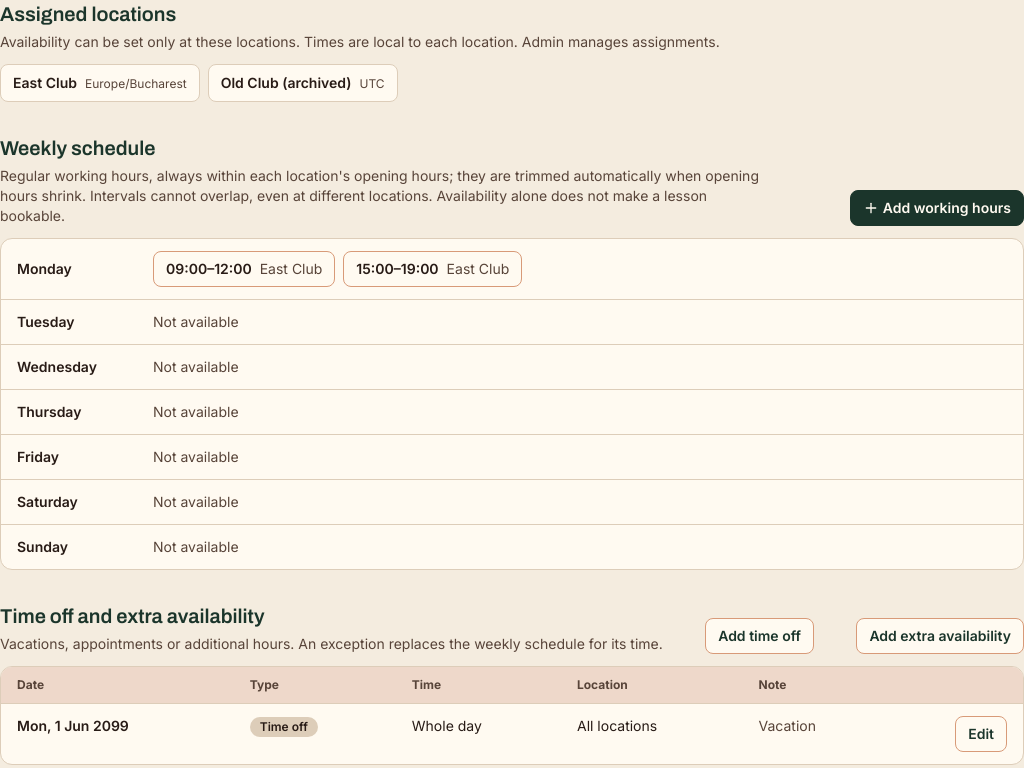
submits a holiday as one inclusive period, forces whole days and keeps values on booking conflict
Click the button "Add time off": {"x": 760, "y": 636} top-left (705, 618), bottom-right (814, 654)
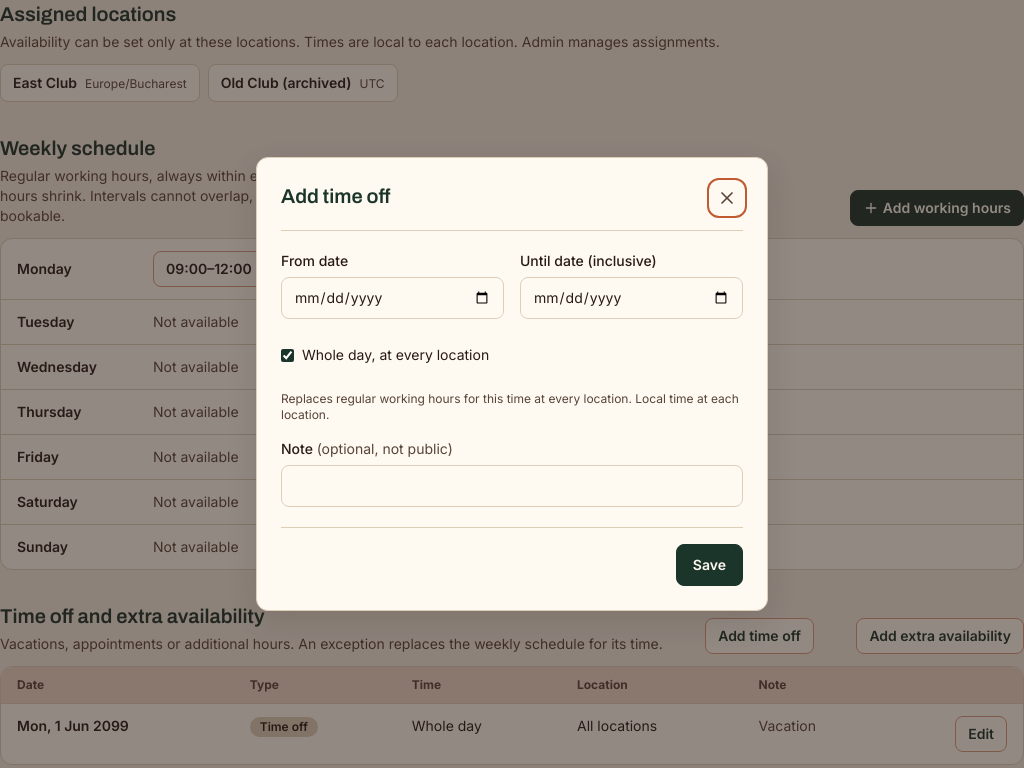
In the date field labelled "From date": {"x": 392, "y": 298} top-left (281, 277), bottom-right (504, 319), type "2099-12-21"
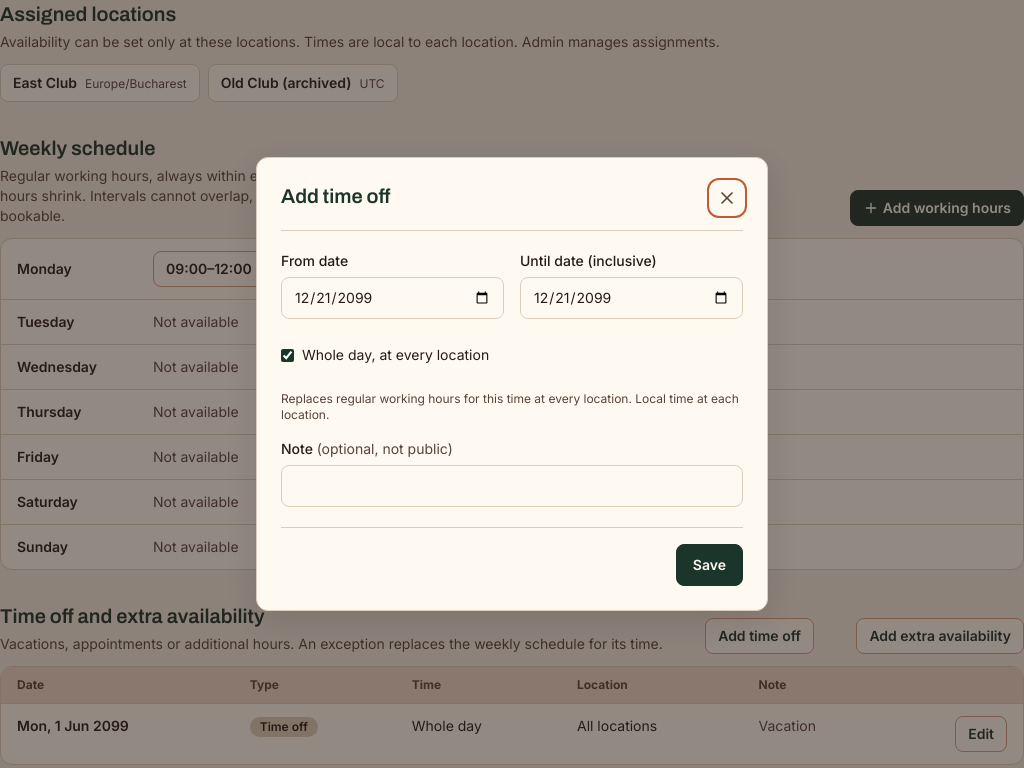
In the date field labelled "Until date (inclusive)": {"x": 632, "y": 298} top-left (520, 277), bottom-right (743, 319), type "2100-01-10"
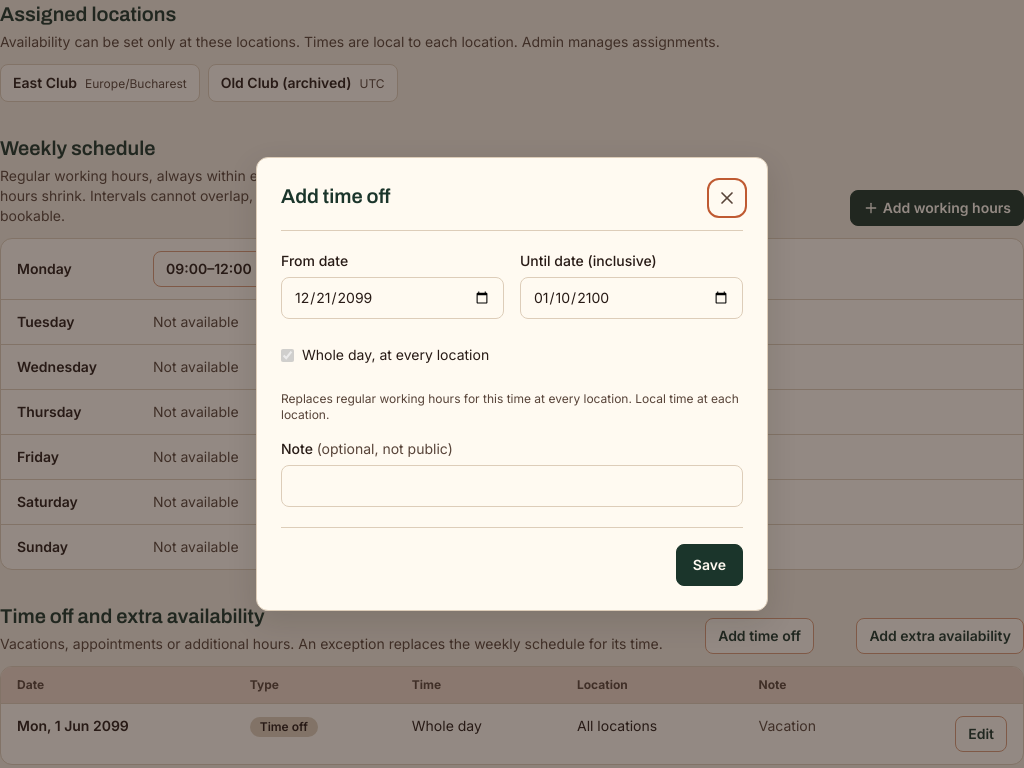
In the field labelled "Note (optional, not public)": {"x": 512, "y": 486} top-left (281, 465), bottom-right (743, 507), type "Christmas holiday"
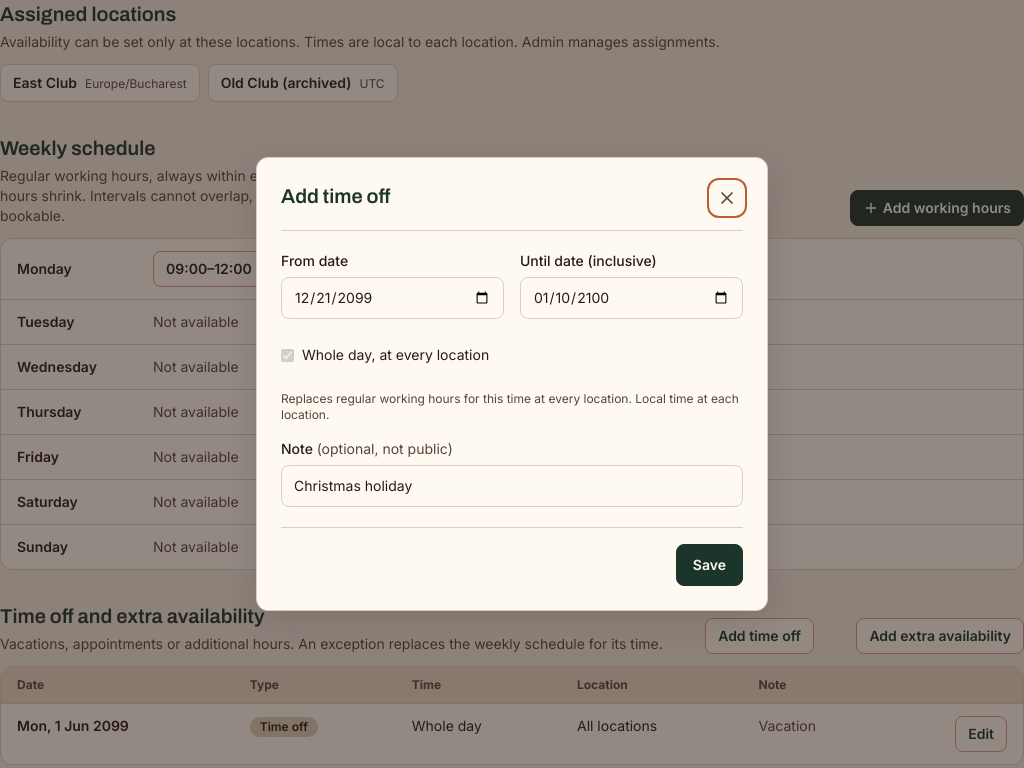
Result: the checkbox is disabled at top-left (281, 348), bottom-right (294, 362)
Click the button "Save": {"x": 709, "y": 565} top-left (676, 544), bottom-right (743, 586)
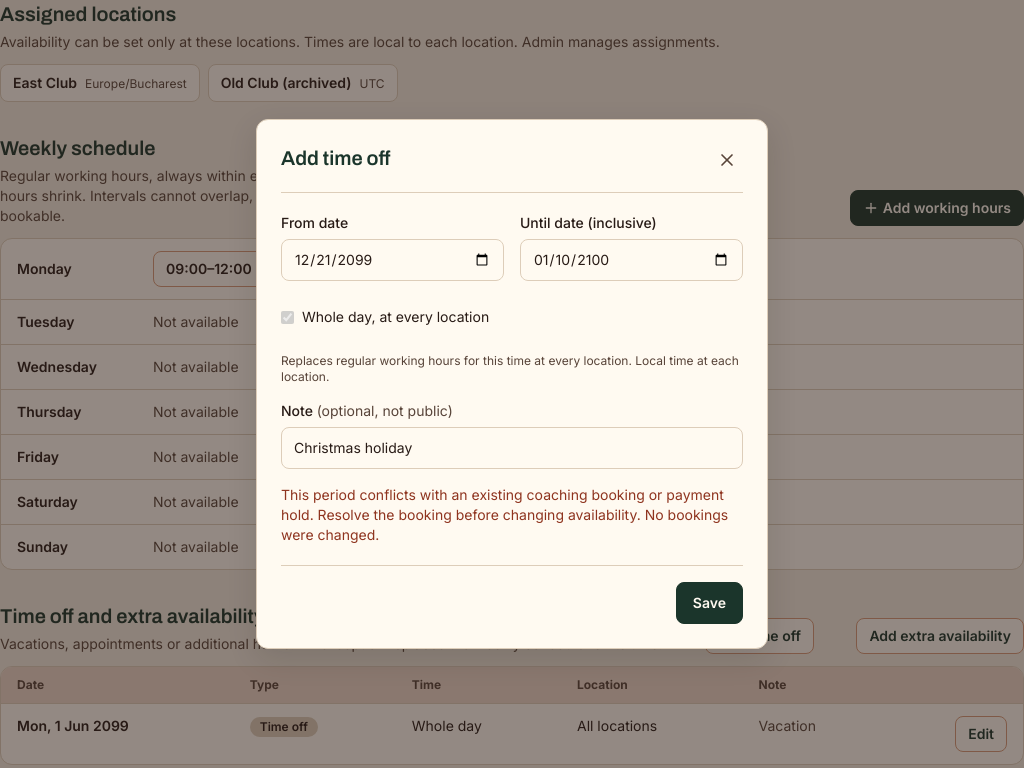
Result: the text "conflicts with an existing coaching booking" is shown at top-left (281, 486), bottom-right (728, 543)
